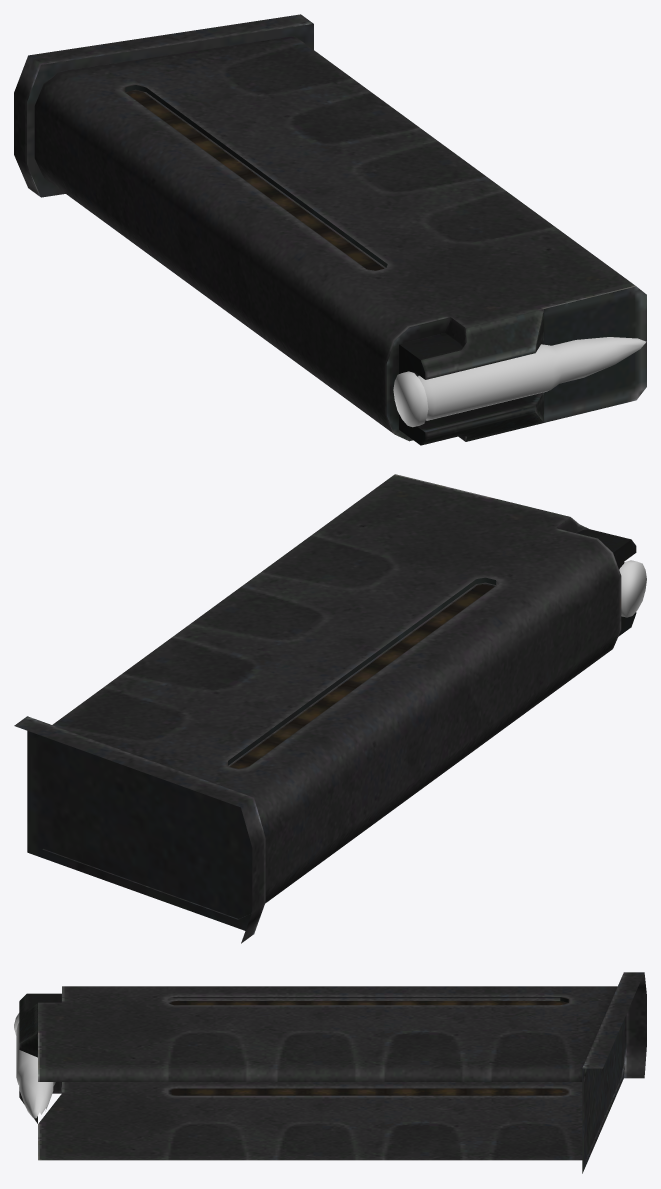
Rendered from t6_attach_mag_peacekeeper_view_LOD0.obj.
The picture shows the model from 3 angles, top to bottom: view 1: azimuth 30°, elevation 25°; view 2: azimuth 150°, elevation 25°; view 3: azimuth 270°, elevation 25°; orthographic projection. The views are drawn at different scales.
Visible parts, largest first — view 1: mtl_t6_wpn_smg_peacekeeper_camo4, mtl_t6_wpn_smg_peacekeeper, mtl_t6_attach_bullet, mtl_t6_wpn_smg_peacekeeper_camo3; view 2: mtl_t6_wpn_smg_peacekeeper_camo4, mtl_t6_wpn_smg_peacekeeper, mtl_t6_wpn_smg_peacekeeper_camo3, mtl_t6_attach_bullet; view 3: mtl_t6_wpn_smg_peacekeeper_camo4, mtl_t6_wpn_smg_peacekeeper, mtl_t6_wpn_smg_peacekeeper_camo3, mtl_t6_attach_bullet.
Boxes of the visible parts, box(x1,y1,x2,y2) form: mtl_t6_wpn_smg_peacekeeper_camo4: box(27, 24, 646, 445); mtl_t6_wpn_smg_peacekeeper: box(14, 14, 543, 445); mtl_t6_attach_bullet: box(393, 337, 646, 427); mtl_t6_wpn_smg_peacekeeper_camo3: box(125, 89, 385, 270); mtl_t6_wpn_smg_peacekeeper_camo4: box(27, 474, 636, 930); mtl_t6_wpn_smg_peacekeeper: box(14, 716, 265, 943); mtl_t6_wpn_smg_peacekeeper_camo3: box(228, 581, 497, 768); mtl_t6_attach_bullet: box(619, 560, 646, 617); mtl_t6_wpn_smg_peacekeeper_camo4: box(19, 986, 626, 1173); mtl_t6_wpn_smg_peacekeeper: box(19, 972, 646, 1078); mtl_t6_wpn_smg_peacekeeper_camo3: box(167, 997, 568, 1005); mtl_t6_attach_bullet: box(14, 1013, 55, 1118).
Size of the model in its own units: 5.81 by 2.84 by 15.35.
